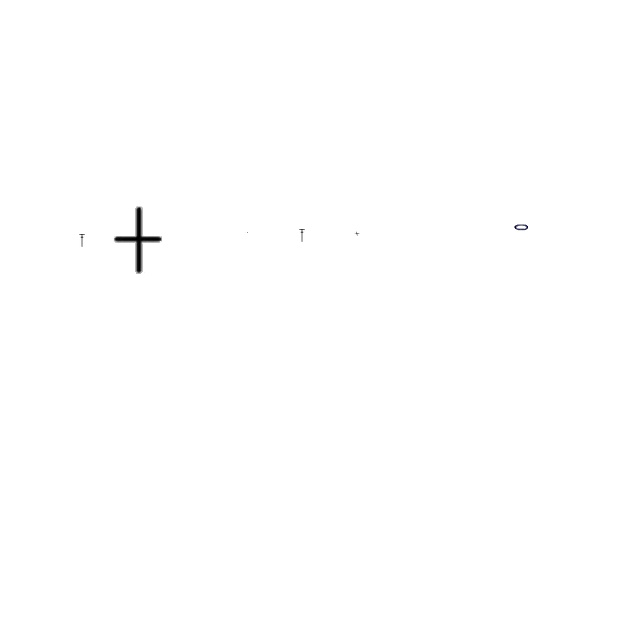chain: (514, 221, 530, 233), (246, 232, 248, 234)
double: (110, 206, 164, 276), (354, 232, 360, 236)
double treble: (79, 234, 85, 248), (299, 230, 305, 242)
